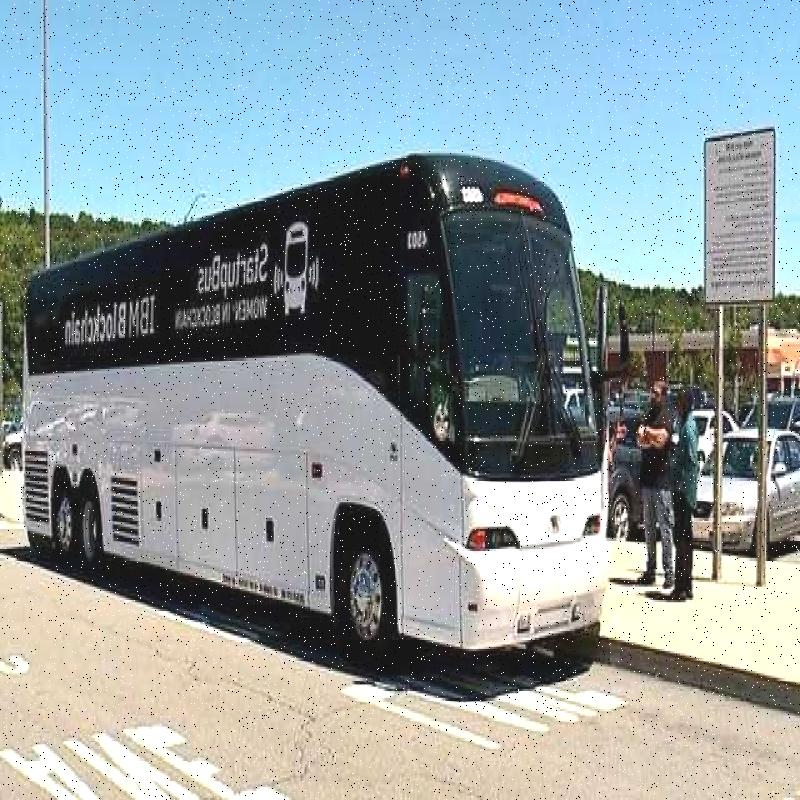bus: (0, 130, 610, 650)
